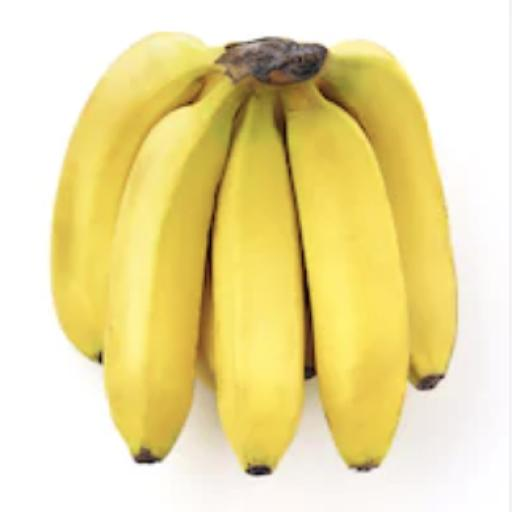banana: (52, 32, 221, 360), (106, 77, 249, 462), (281, 82, 409, 470), (320, 41, 456, 390), (212, 88, 304, 475), (197, 248, 215, 390), (197, 265, 215, 390), (305, 279, 316, 380)
